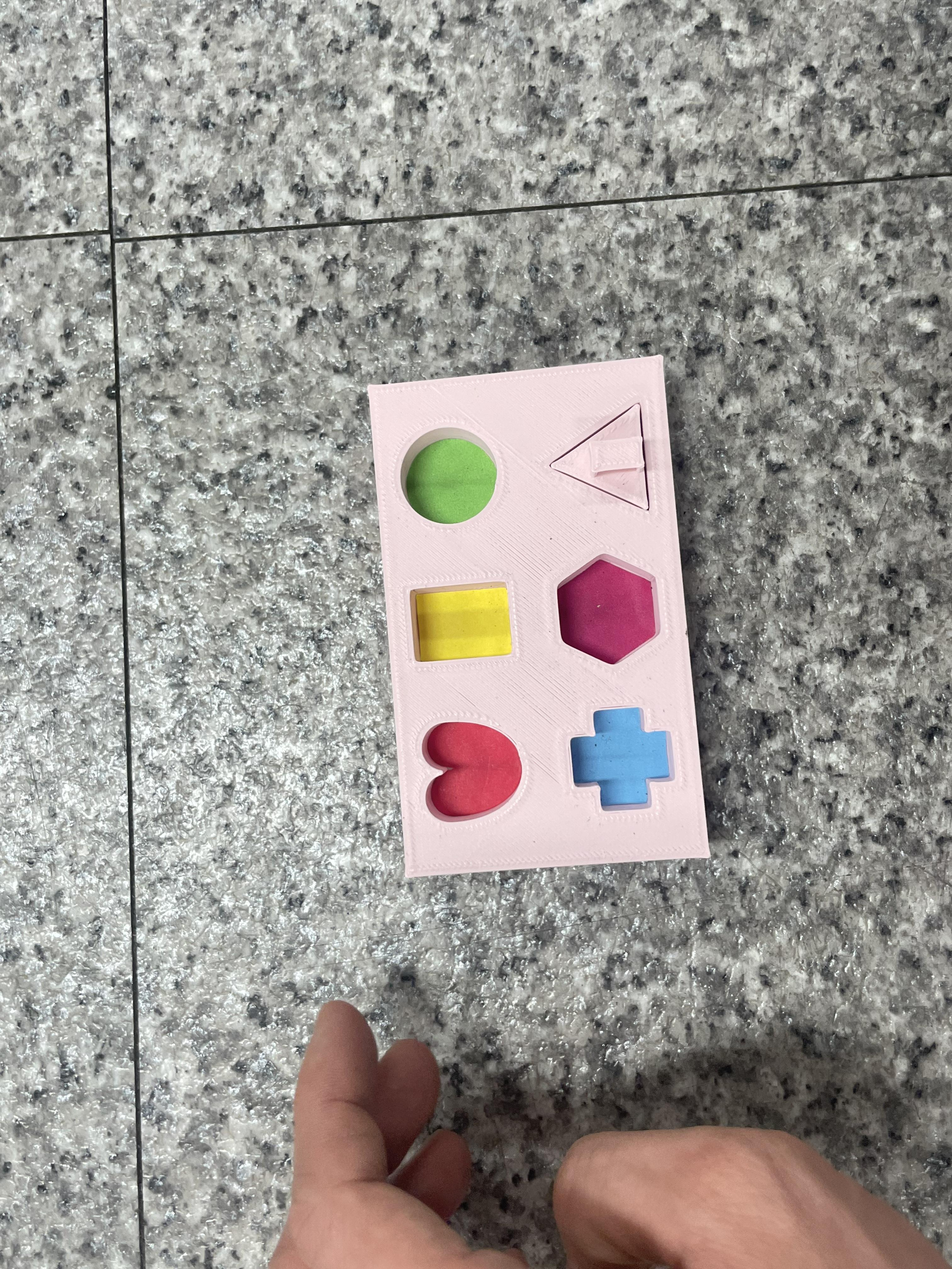unsolved: (349, 334, 745, 888)
